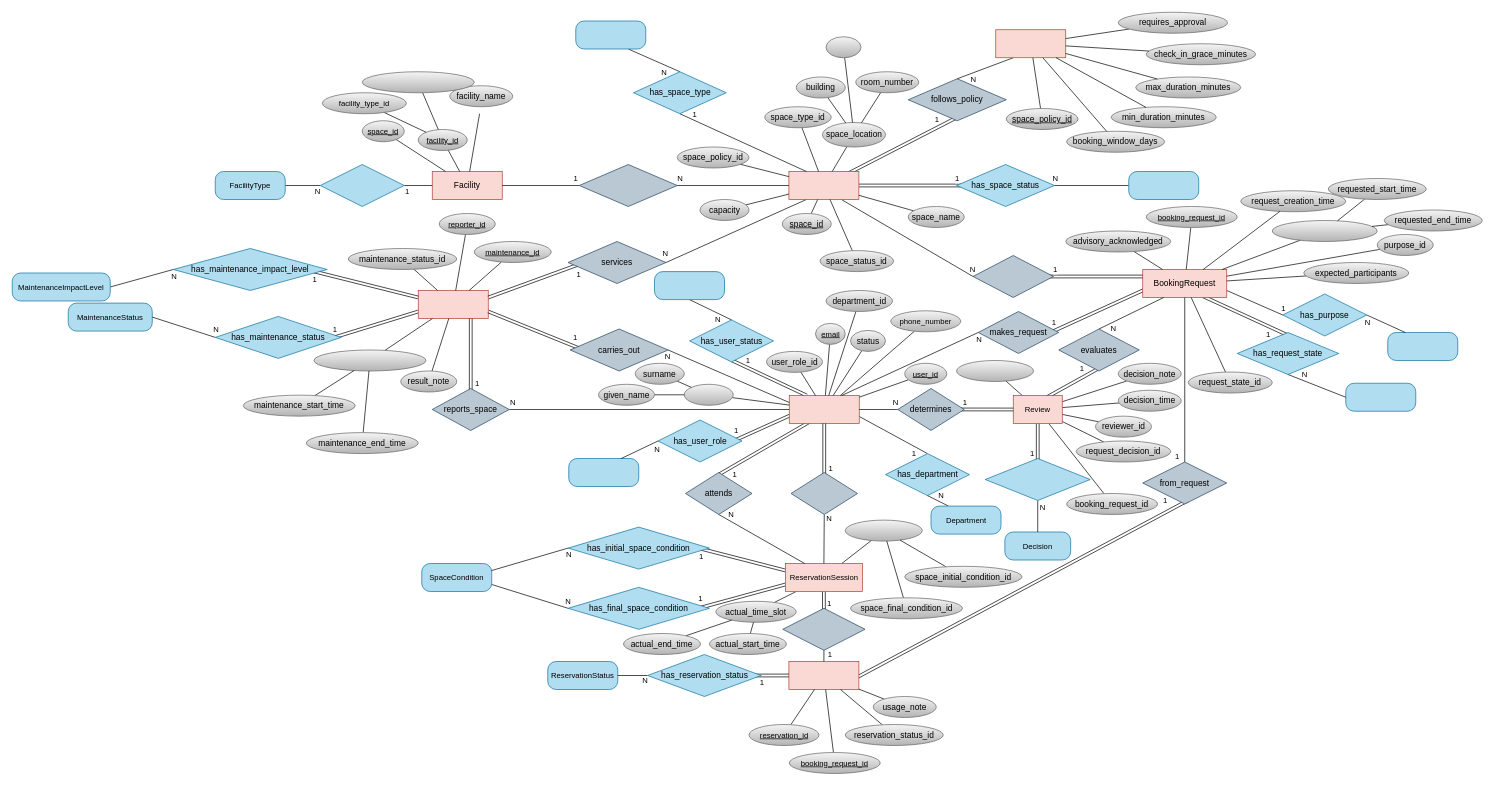
Image size: 1495x786. Some labels were removed from this diagram. The shapes that lost their labels are listed below. From the top down, each one's centre as x and y in pixels, then its label:
At (x=610, y=34): "SpaceType".
At (x=843, y=47): "floor".
At (x=1030, y=43): "SpacePolicy".
At (x=418, y=82): "facility_sequence_number".
At (x=362, y=185): "has_facility_type".
At (x=628, y=185): "is_equipped_with".
At (x=823, y=185): "Space".
At (x=1163, y=185): "SpaceStatus".
At (x=1324, y=230): "requested_time_slot".
At (x=689, y=285): "UserStatus".
At (x=1013, y=276): "requests_space".
At (x=453, y=304): "Maintenance".
At (x=369, y=360): "maintenance_time_slot".
At (x=1422, y=346): "Purpose".
At (x=995, y=371): "rejection_reason".
At (x=708, y=394): "full_name".
At (x=824, y=409): "User".
At (x=1380, y=397): "RequestState".
At (x=603, y=472): "UserRole".
At (x=1037, y=479): "has_request_decision".
At (x=824, y=493): "checks_in".
At (x=883, y=530): "space_condition".
At (x=823, y=629): "from_reservation".
At (x=823, y=675): "Reservation".
